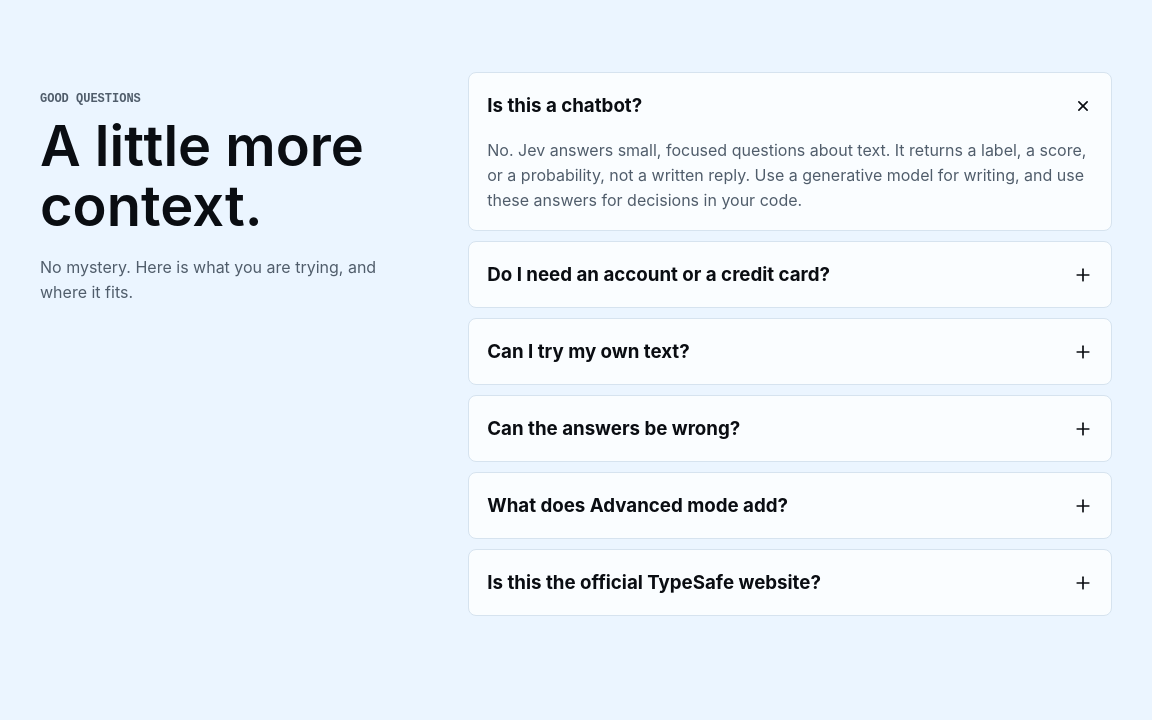
Test: FAQ › toggles answers accessibly
The image size is (1152, 720).
Click the button "Do I need an account or a credit card?": (790, 275) [469,242,1111,307]
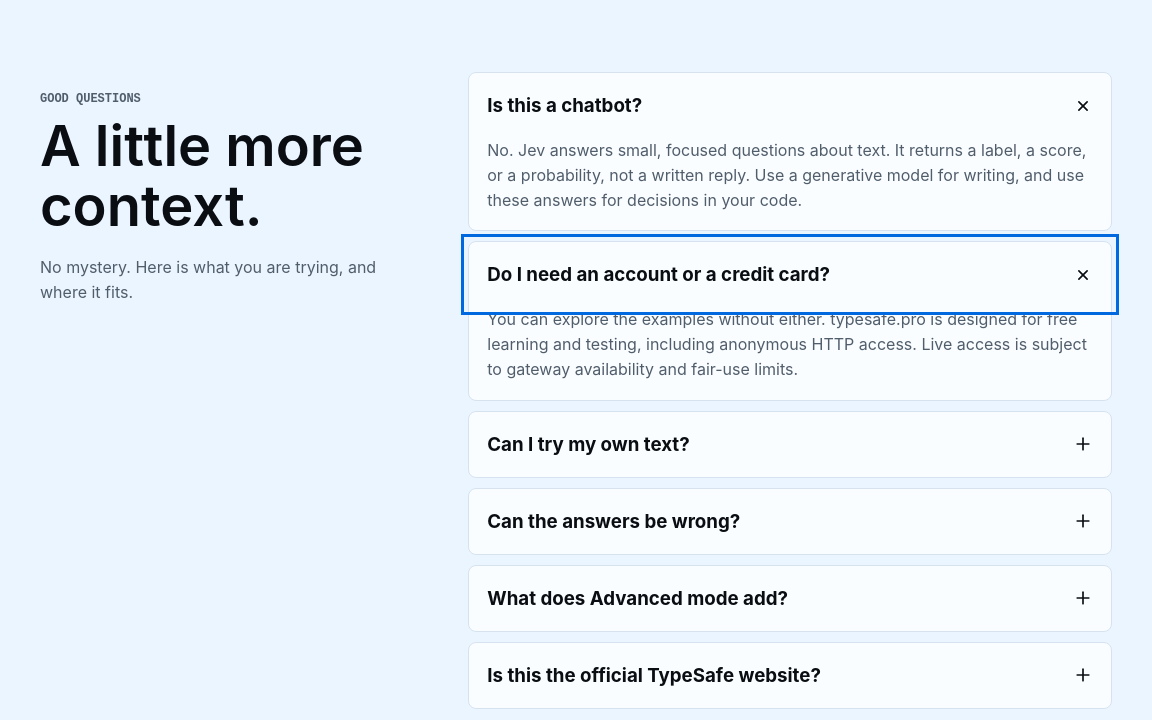
Check: the button "Do I need an account or a credit card?" is expanded, box [469,242,1111,307]
Check: the text "anonymous HTTP access" is shown, box [487,309,1087,379]
